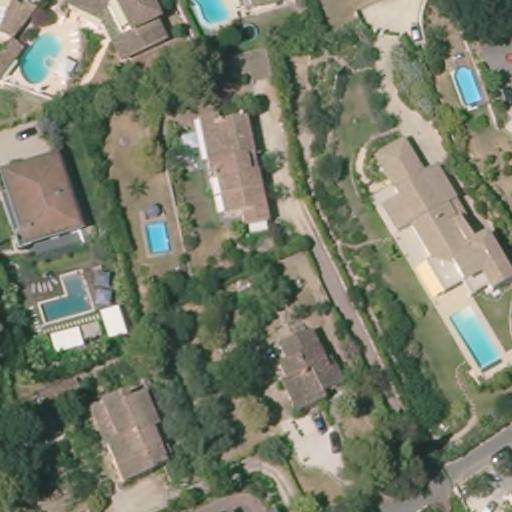pool: (446, 299, 503, 378), (26, 266, 95, 326), (16, 32, 65, 86), (136, 217, 175, 259), (449, 61, 484, 107), (192, 0, 236, 25)
